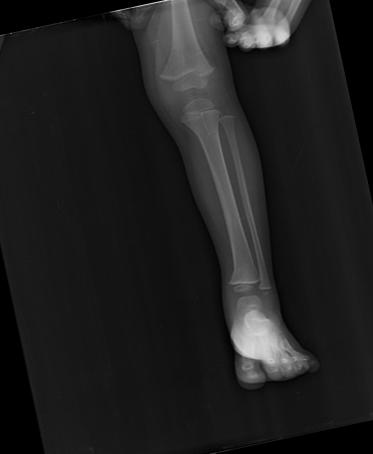fractured: (228, 260, 256, 279)
